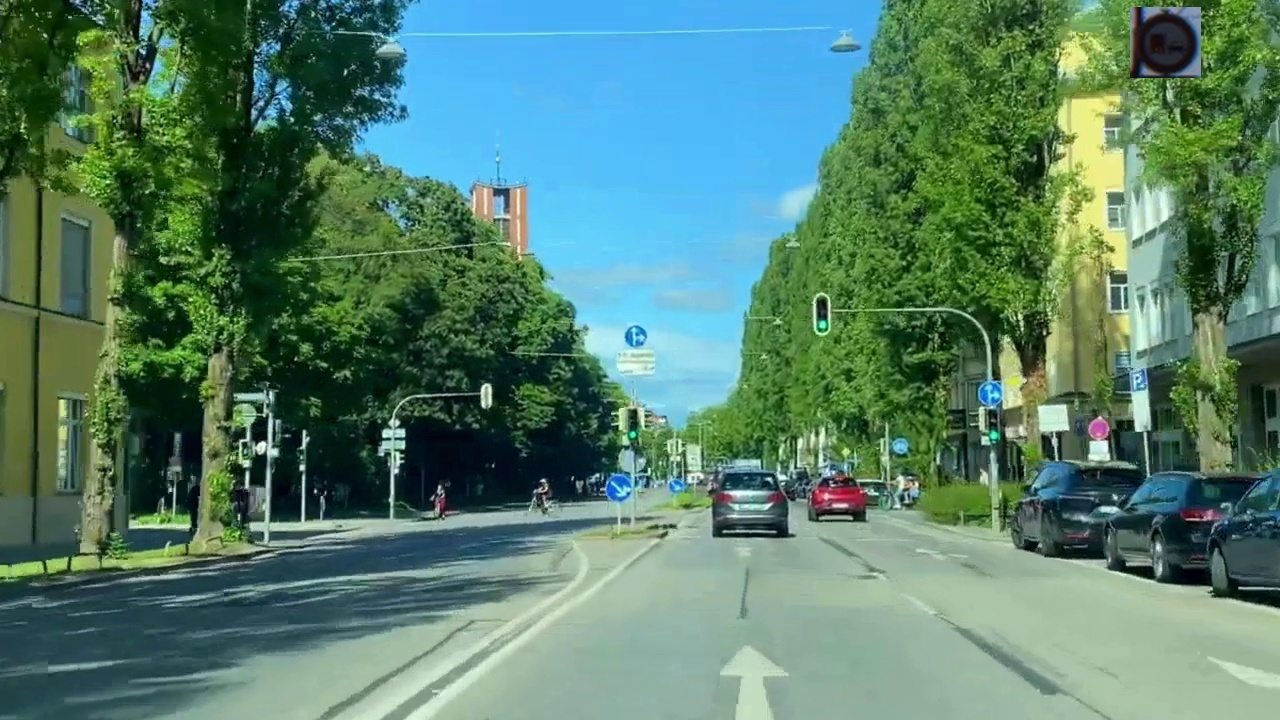No pass >3.5t: (1130, 7, 1201, 78)
